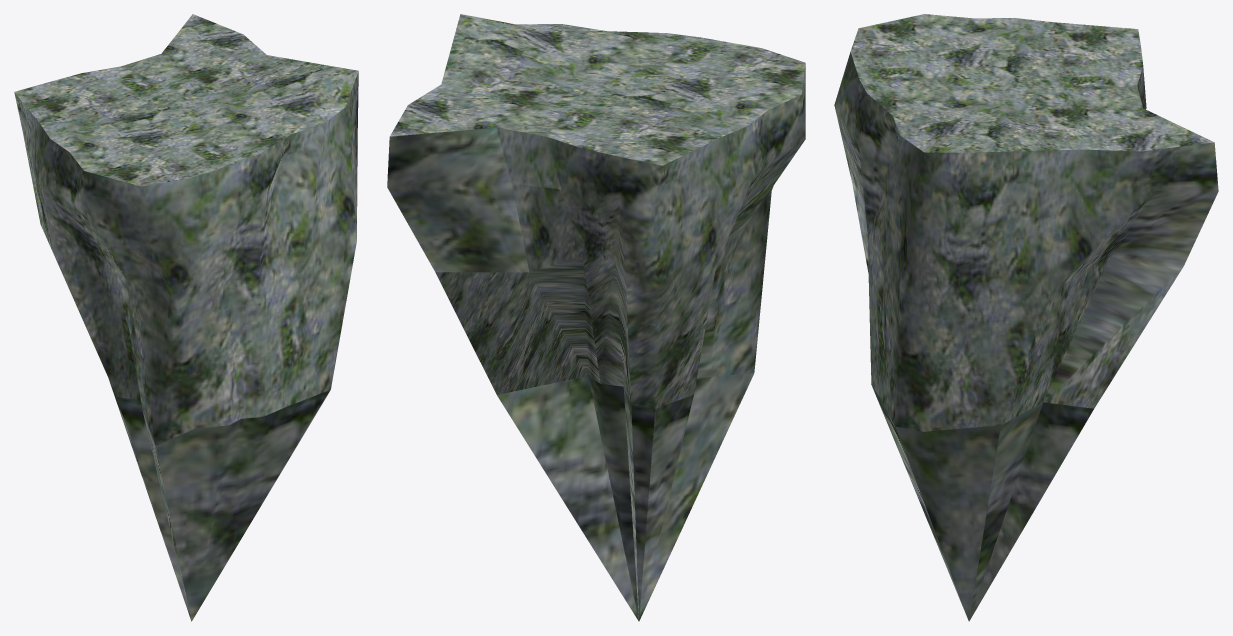
3 views of the same model, side by side, from view 1: azimuth 30°, elevation 25°; view 2: azimuth 150°, elevation 25°; view 3: azimuth 270°, elevation 25° (orthographic). The views are drawn at different scales.
Parts seen in each view (by area): view 1: Box296; view 2: Box296; view 3: Box296.
Boxes of the visible parts, x1,y1,x2,y2 form: Box296: [14, 14, 358, 621]; Box296: [387, 14, 805, 621]; Box296: [834, 14, 1218, 621].
Bounding box in the file's own units: 303 × 505 × 316.
